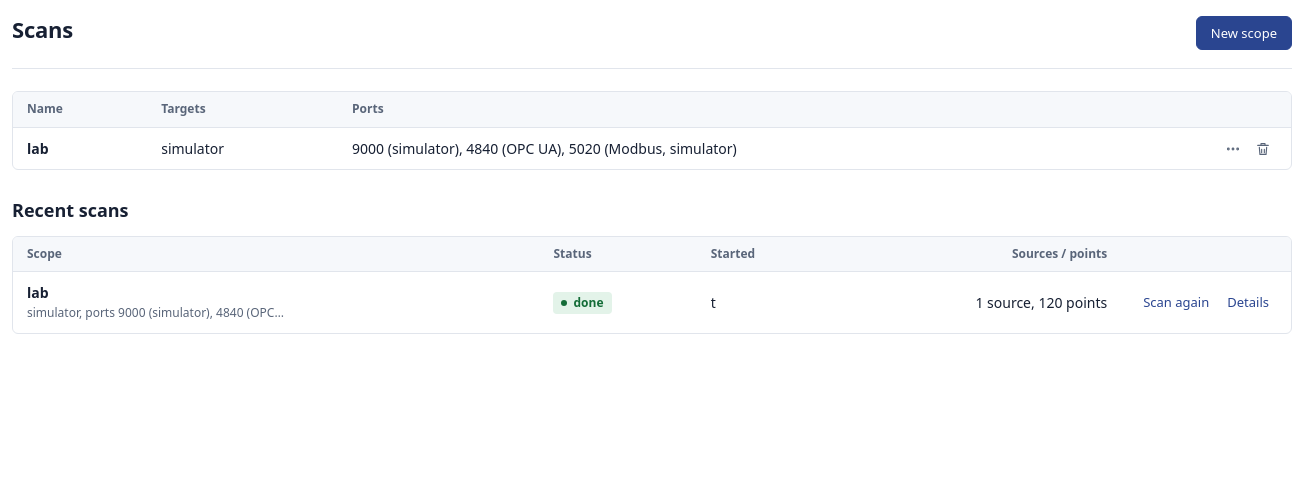
ScansPage › shows the server's reason when the count is stale or a scan is running
Click the button named "Actions for lab".
click(1233, 149)  # box [1219, 135, 1247, 163]
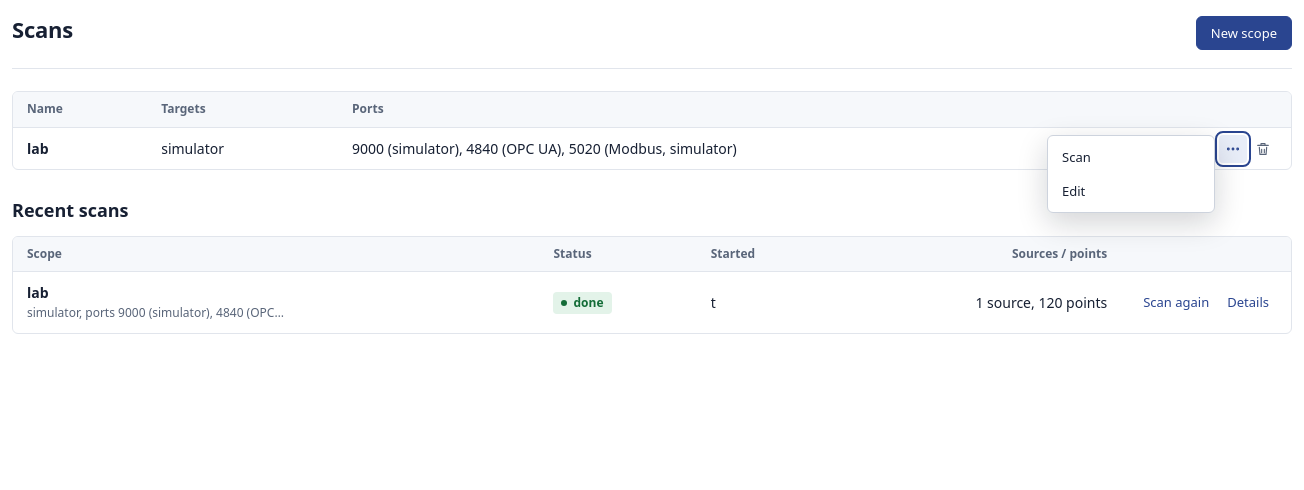
Click the menu item "Scan".
click(1131, 157)  # box [1052, 140, 1210, 174]
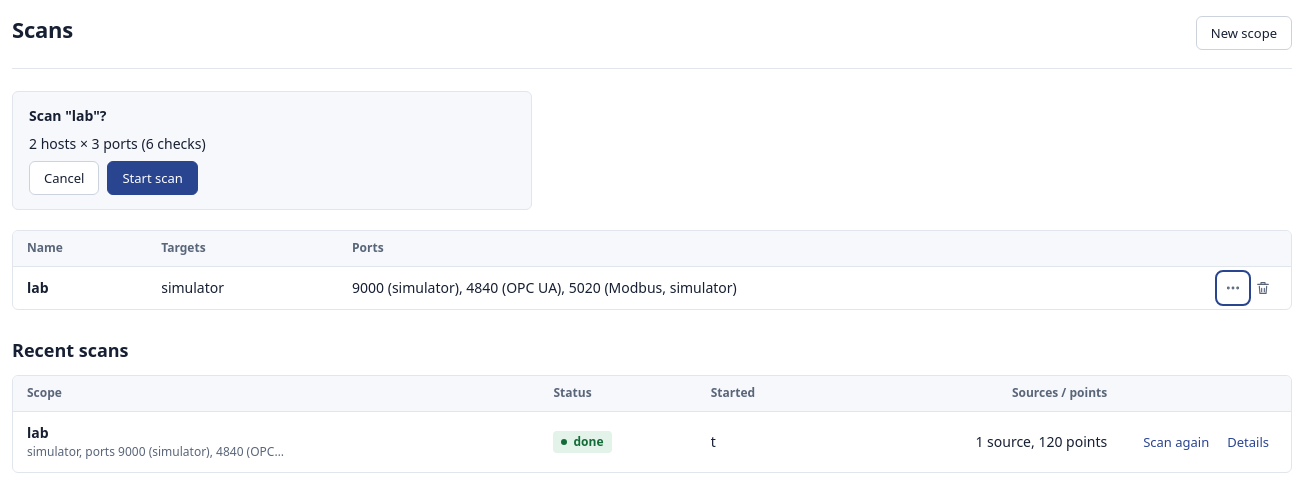
Click the button "Start scan".
click(153, 178)  # box [108, 161, 198, 195]
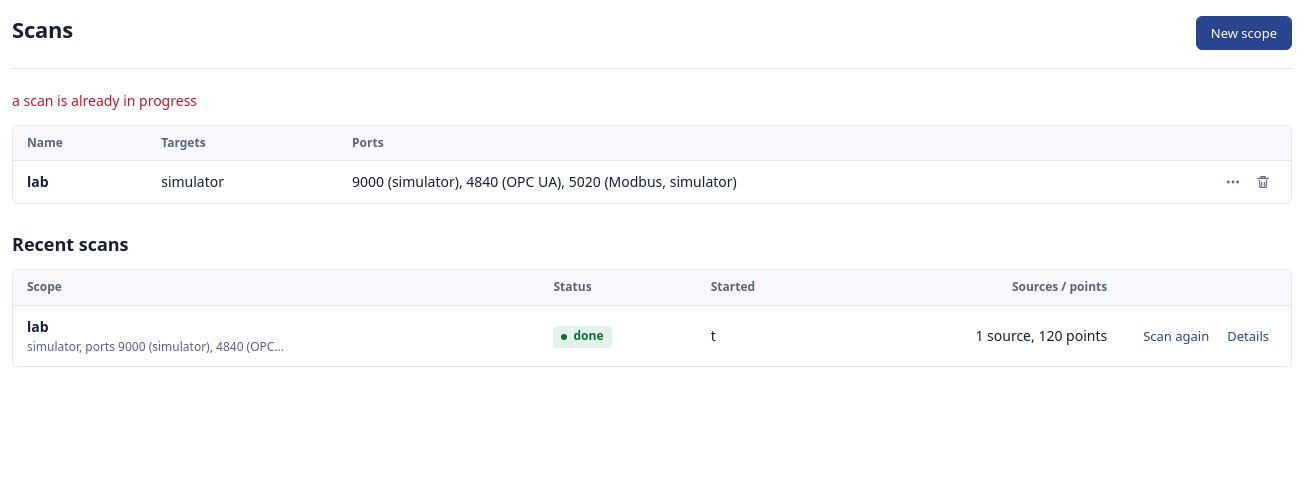
Now the message reads "a scan is already in progress", box [12, 91, 197, 110]
